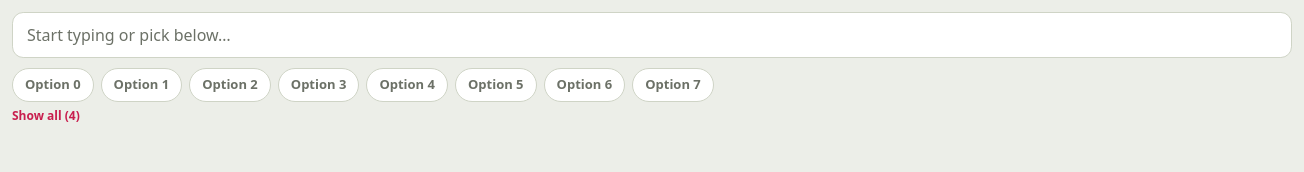
TagPicker › collapses options past visibleCount behind an expand/collapse toggle
Expected: the button "Option 7" is shown, [632,68,714,102]
Expected: the button "Option 8" is not shown
Step 1. Click the button "Show all (4)" → x=46, y=116, box [12,108,80,124]
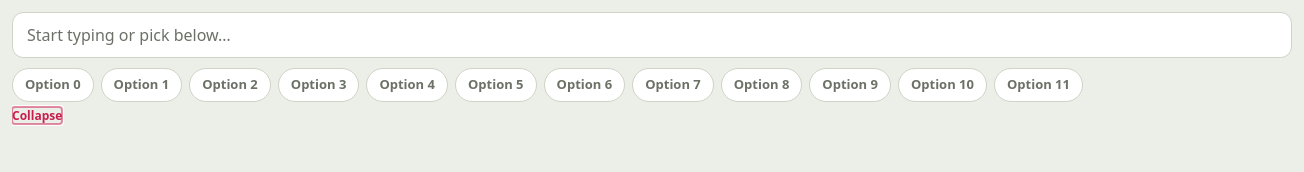
Expected: the button "Option 8" is shown, [721,68,802,102]
Expected: the button "Option 11" is shown, [994,68,1083,102]
Step 2. Click the button "Collapse" → x=37, y=116, box [12,108,62,124]
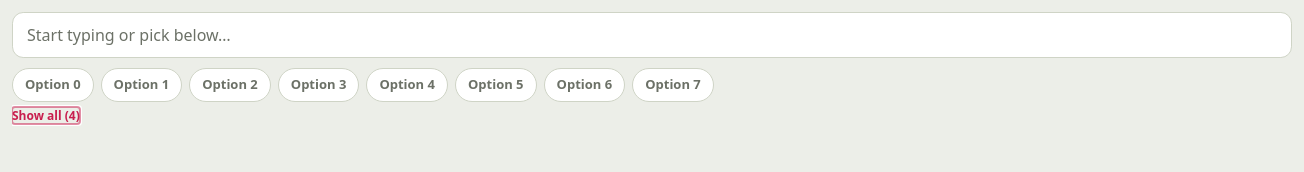
Expected: the button "Option 7" is shown, [632,68,714,102]
Expected: the button "Option 8" is gone
